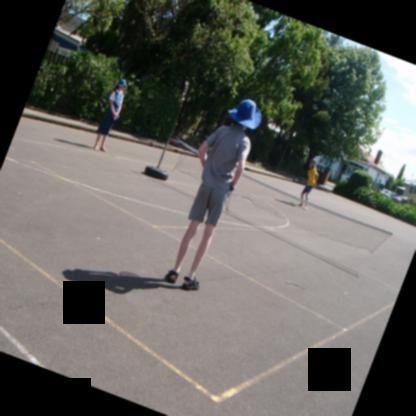handbag: (113, 90, 119, 121)
